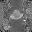people: (10, 9, 23, 20)
